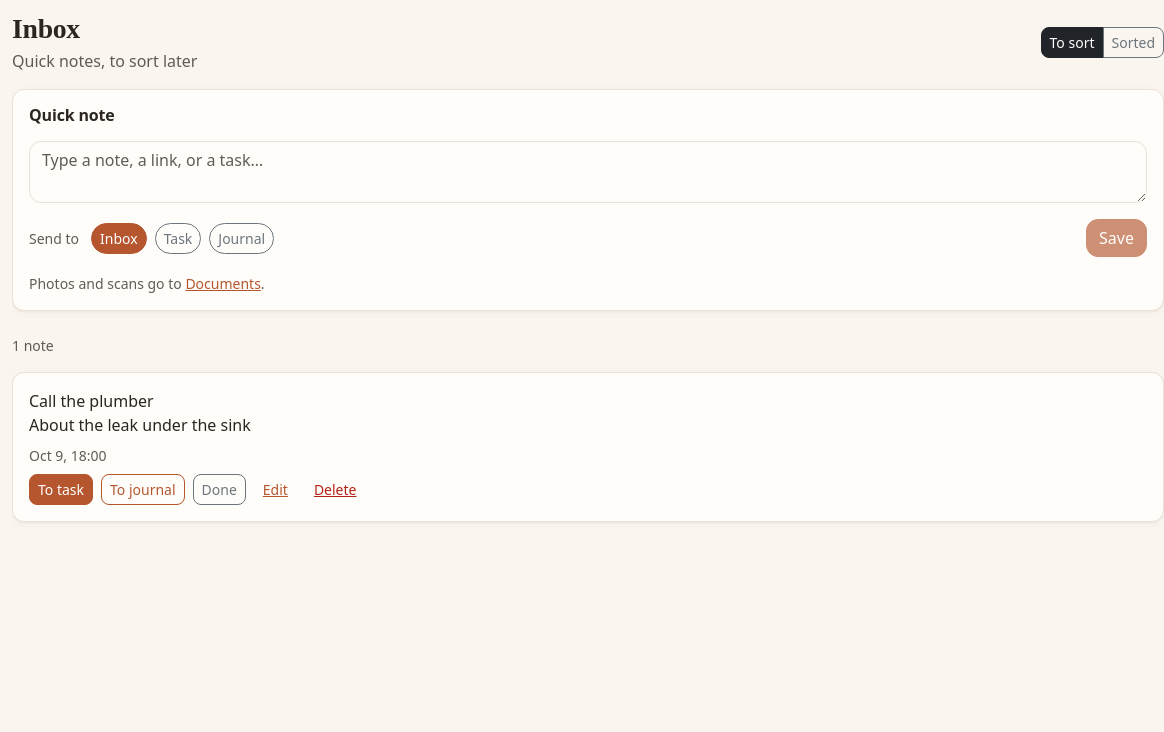
Test: InboxPageComponent › sorts a note into a task, then marks it done with where it went
Click the button "To task": click(61, 490) [29,474,93,505]
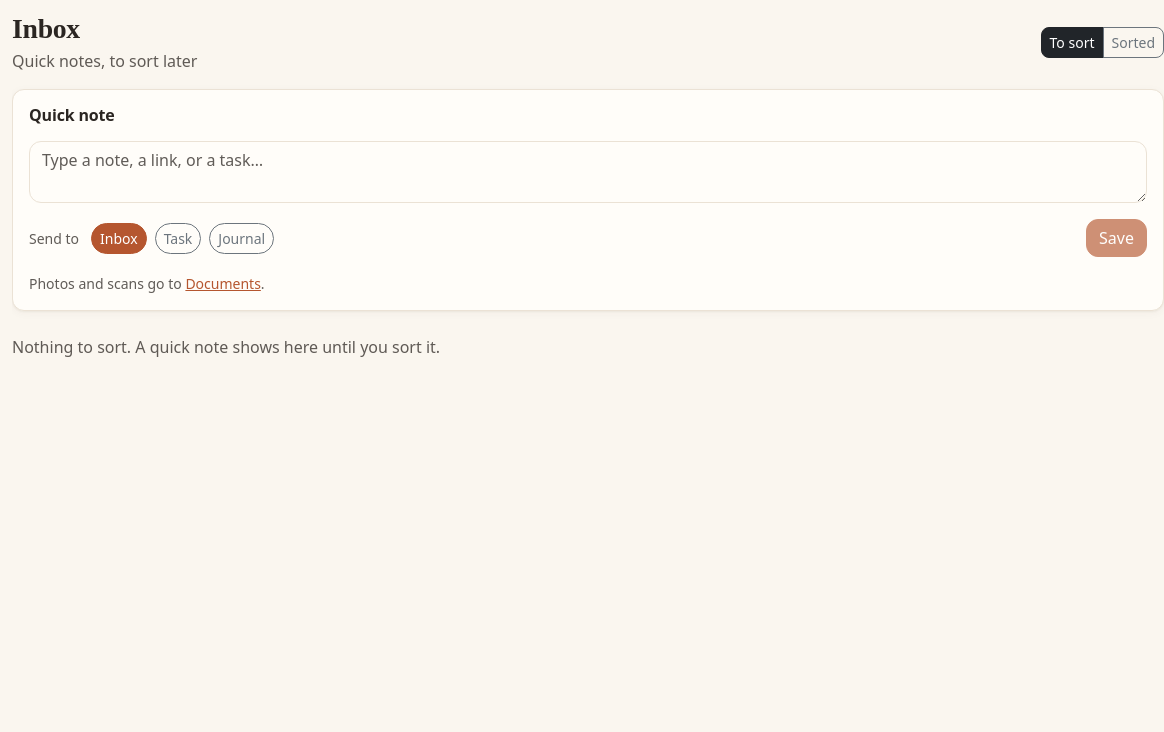
Result: the text with test id "empty" reads "Nothing to sort. A quick note shows here until you sort it." at [12,336,440,358]
